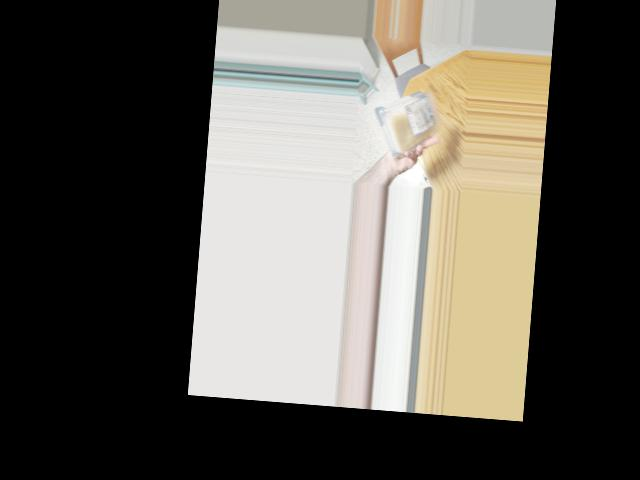cheese: (375, 82, 436, 158)
